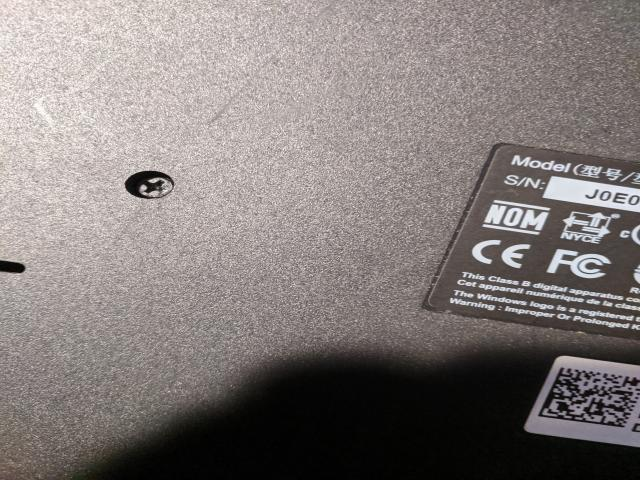CRS: (130, 172, 175, 199)
